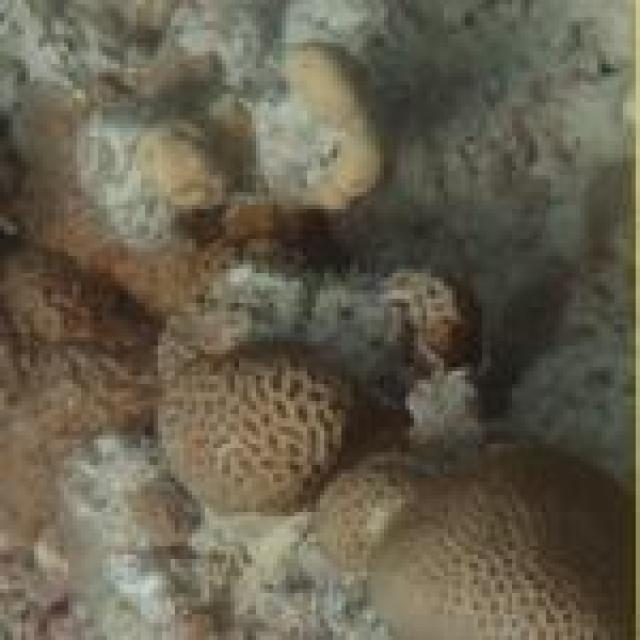Healthy Coral: (140, 324, 640, 633)
